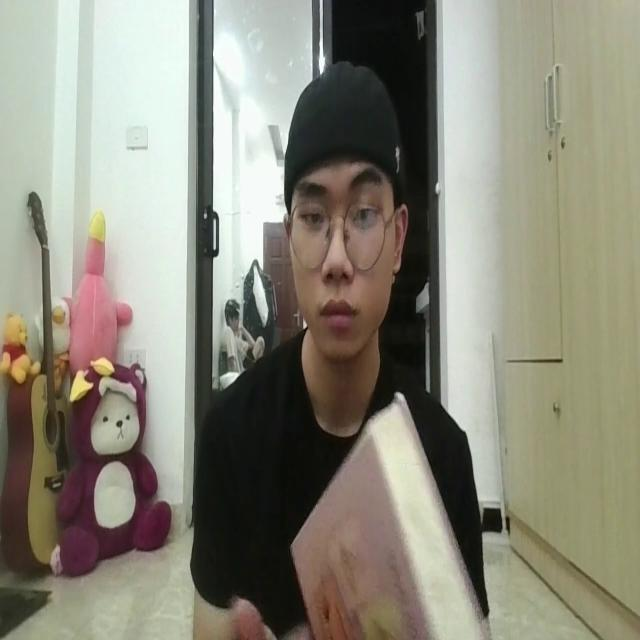book: (287, 390, 493, 640)
student: (174, 59, 499, 640)
